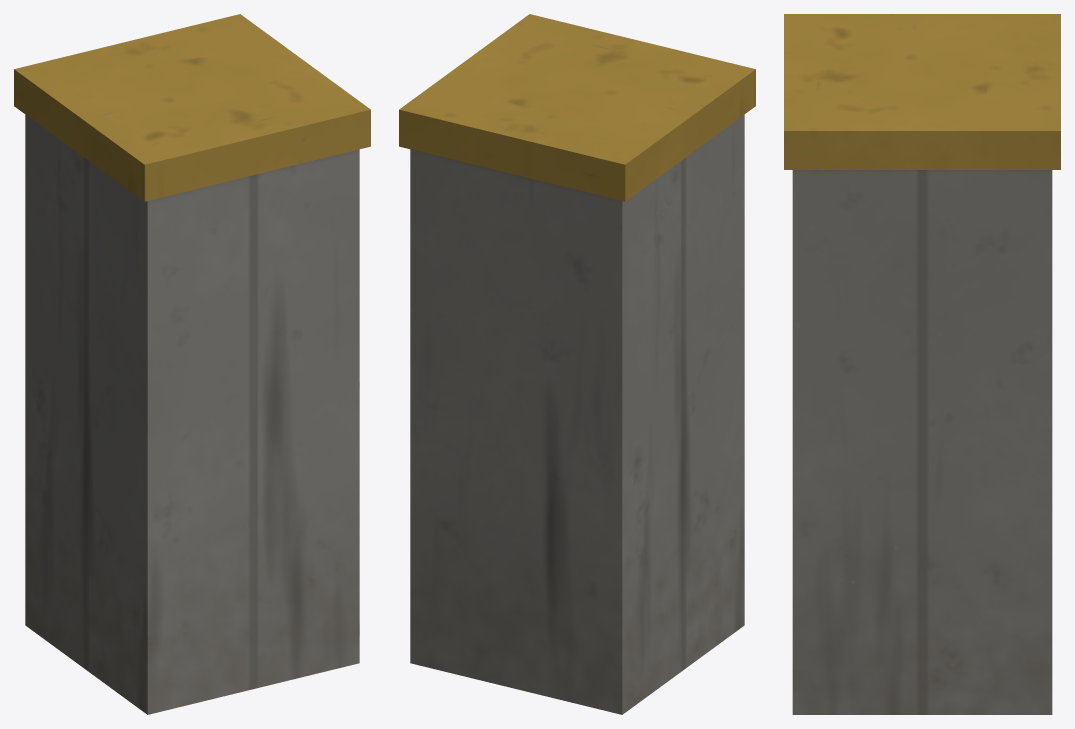
File: muro_centro.glb
The picture shows the model from 3 angles, left to right: view 1: azimuth 30°, elevation 25°; view 2: azimuth 150°, elevation 25°; view 3: azimuth 270°, elevation 25°; orthographic projection. The views are drawn at different scales.
Parts seen in each view (by area): view 1: muro_centro; view 2: muro_centro; view 3: muro_centro.
Part boxes in pixels (left/top/right/bottom): muro_centro: left=14, top=14, right=370, bottom=714; muro_centro: left=399, top=14, right=755, bottom=714; muro_centro: left=784, top=14, right=1060, bottom=714.
Bounding box in the file's own units: 0.64 × 1.5 × 0.64.
Materials: 1 (1 with a texture image).
